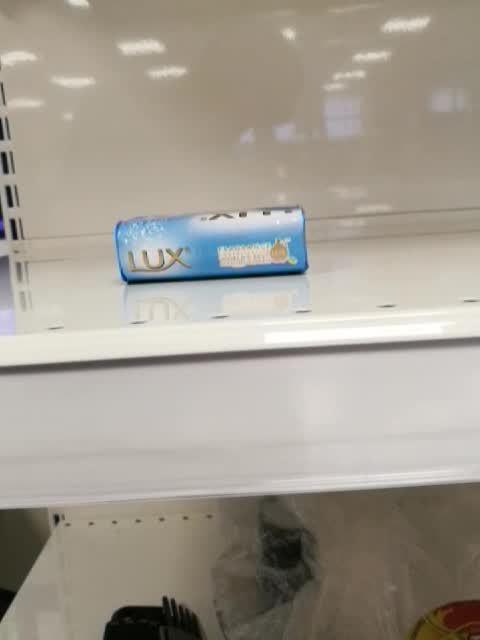soap: (112, 205, 310, 287)
